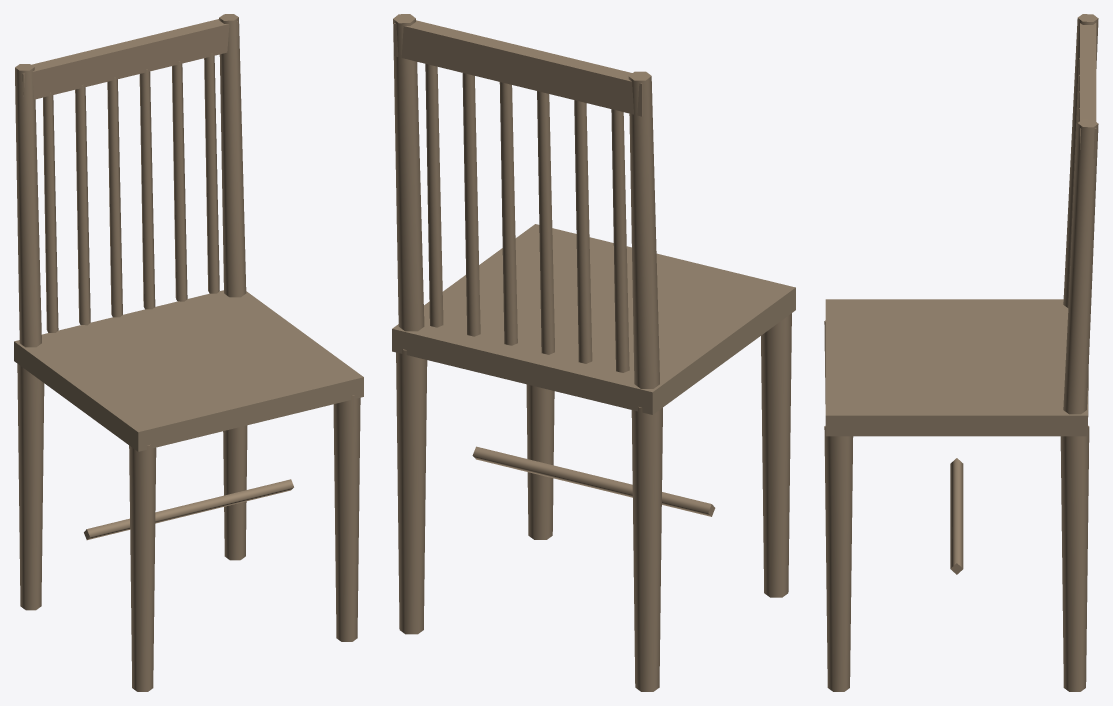
The model's file is cabin_chair_b.glb.
3 renders of one model, left to right at view 1: azimuth 30°, elevation 25°; view 2: azimuth 150°, elevation 25°; view 3: azimuth 270°, elevation 25°, orthographic. The views are drawn at different scales.
Visible parts, largest first — view 1: body; view 2: body; view 3: body.
Boxes of the visible parts, box(x1,y1,x2,y2) form: body: box(14, 14, 363, 691); body: box(392, 14, 795, 691); body: box(824, 14, 1098, 691).
Size of the model in its own units: 0.42 by 0.9507 by 0.418.
